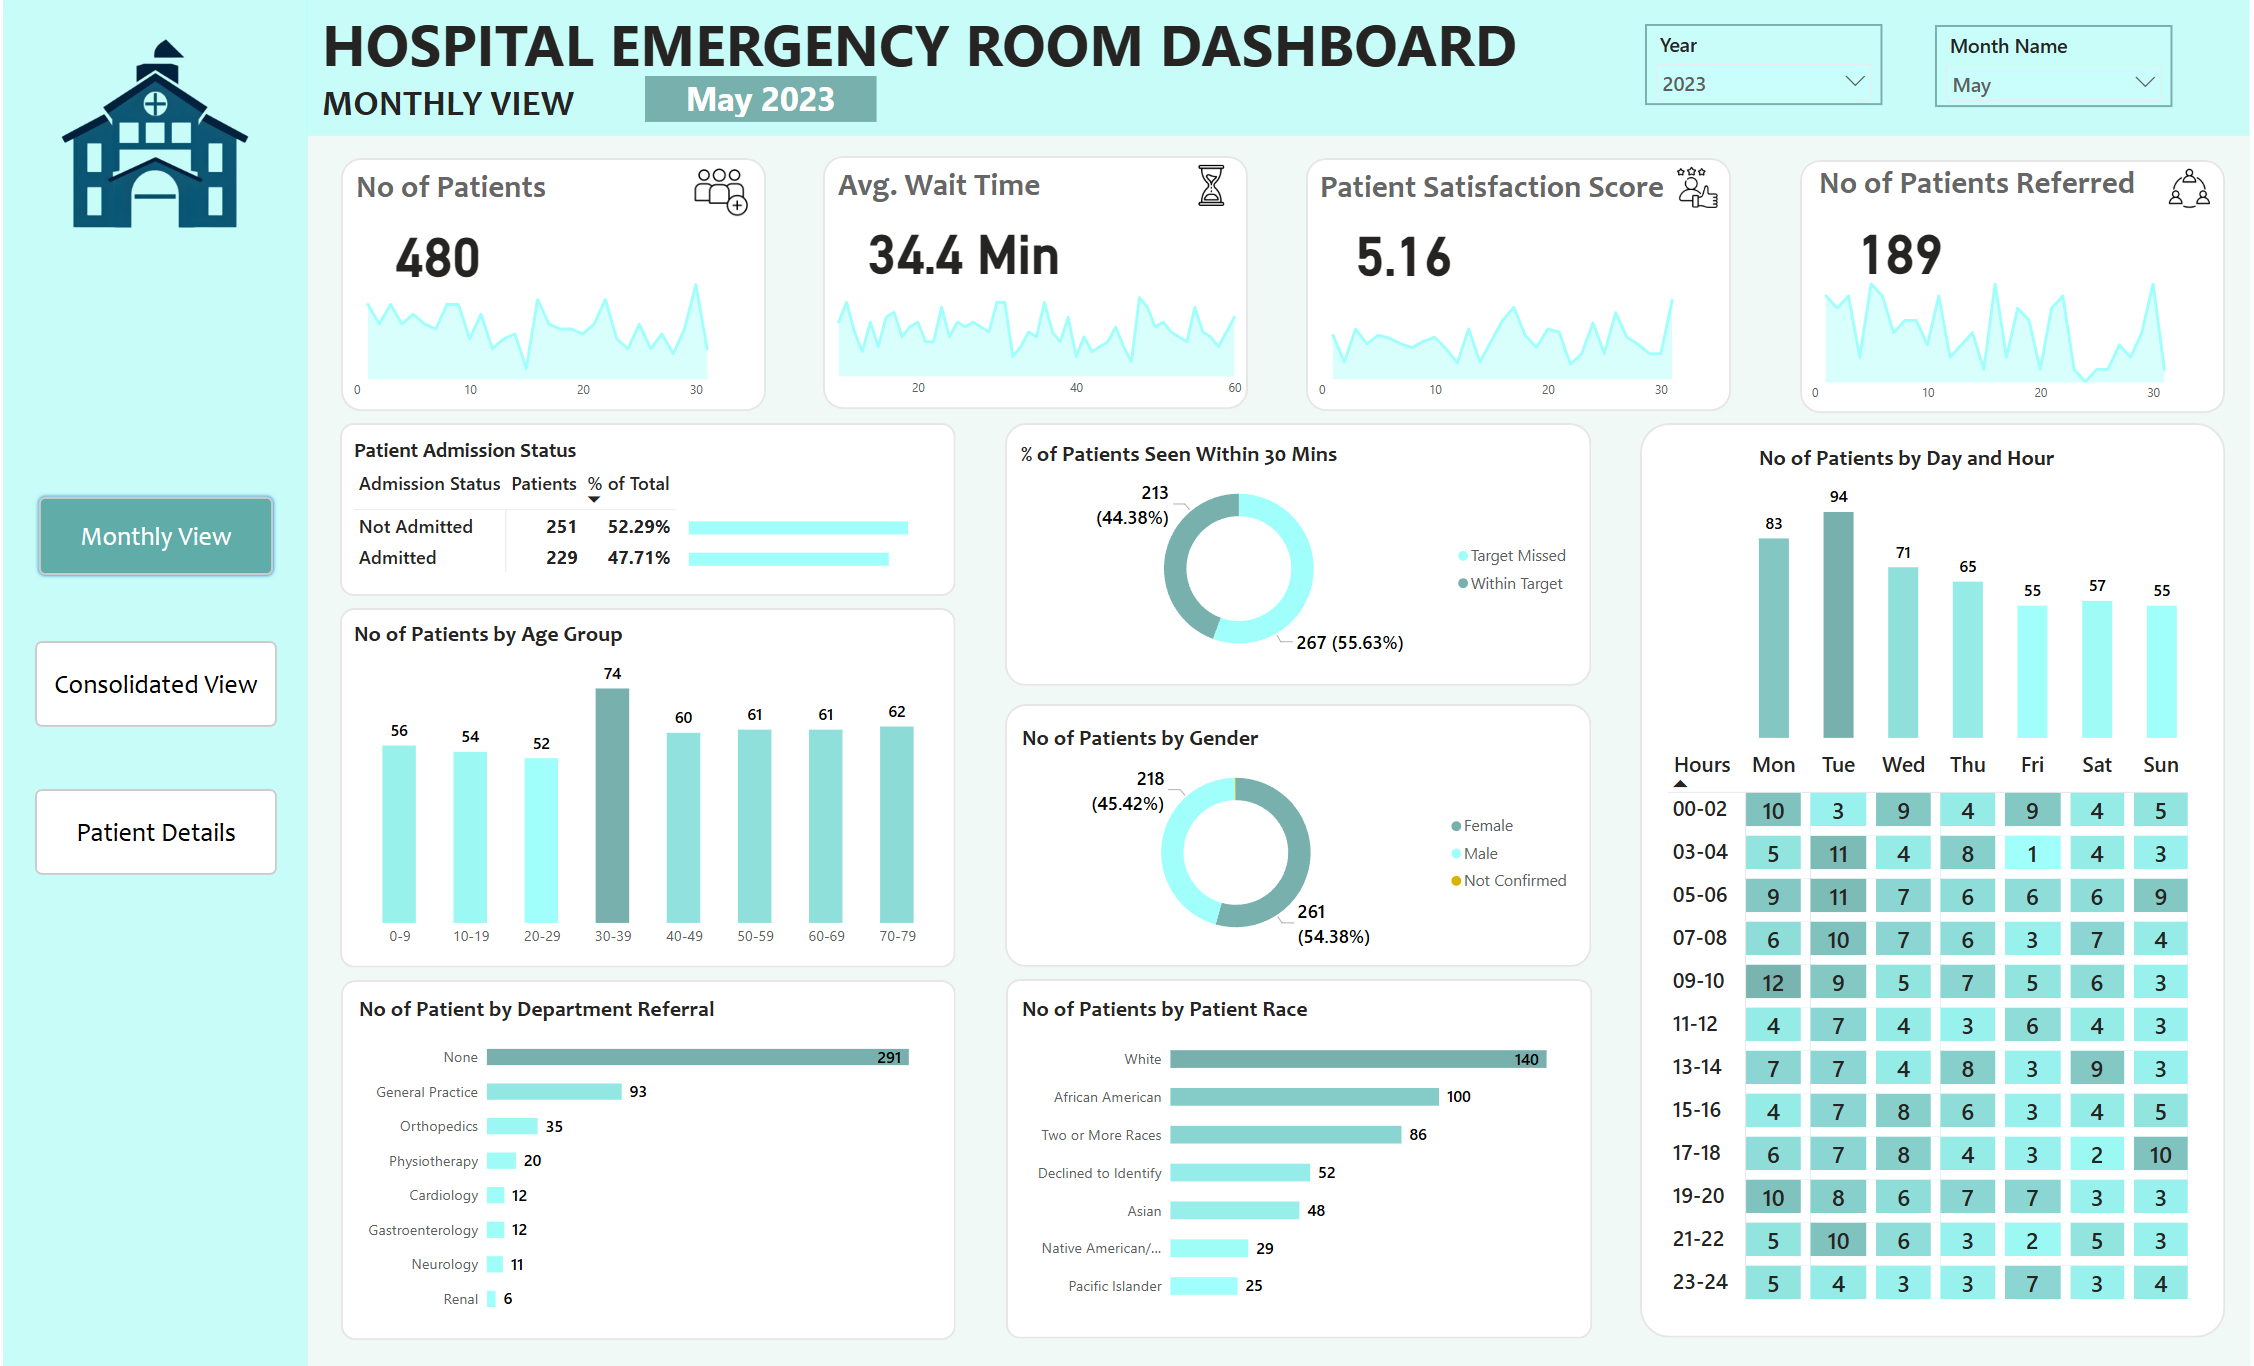

This screenshot's page, from the dashboard's own definition file:
{"tool":"powerbi","page":{"name":"Monthly View","canvas":[2300,1400],"ordinal":0},"visuals":[{"type":"shape","box":[0,0,312.2,1399.4],"z":0},{"type":"shape","box":[839.7,160,435,259],"z":0,"group":"g2"},{"type":"shape","box":[346,162,435,259],"z":0,"group":"g1"},{"type":"shape","box":[1333.3,161.3,435,259],"z":1000},{"type":"card","fields":{"Values":["Avg(Hospital ER_Data.Patient Waittime)","select"]},"box":[853.6,214,260,80],"z":1000,"group":"g2"},{"type":"card","fields":{"Values":["Count(Hospital ER_Data.Patient Id)"]},"box":[356,217,178,80],"z":1000,"group":"g1"},{"type":"textbox","box":[849.7,165,322,56],"z":2000,"group":"g2"},{"type":"textbox","box":[356,167,322,56],"z":2000,"group":"g1"},{"type":"card","fields":{"Values":["Avg(Hospital ER_Data.Patient Satisfaction Score)"]},"box":[1343.3,216.3,178,80],"z":2000},{"type":"shape","box":[1839,164,435,259],"z":3000},{"type":"areaChart","fields":{"Y":["CountNonNull(Hospital ER_Data.Patient Id)"],"Category":["Hospital ER_Data.Patient Waittime"]},"box":[840.7,271,435,145],"z":3000,"group":"g2"},{"type":"areaChart","fields":{"Category":["Date Table.Date.Variation.Date Hierarchy.Day"],"Y":["Count(Hospital ER_Data.Patient Id)"]},"box":[347,273,435,145],"z":3000,"group":"g1"},{"type":"shape","box":[311.5,0,1987.7,139.5],"z":4000},{"type":"textbox","box":[1342.2,167.3,385.6,55.8],"z":5000},{"type":"areaChart","fields":{"Category":["Date Table.Date.Variation.Date Hierarchy.Day"],"Y":["Avg(Hospital ER_Data.Patient Satisfaction Score)"]},"box":[1334.3,272.3,435,145],"z":6000},{"type":"card","fields":{"Values":["Hospital ER_Data.No of Patients Referred"]},"box":[1854,214,174,80],"z":7000},{"type":"textbox","box":[321,0,1292,109],"z":8000},{"type":"textbox","box":[1853,163,352,56],"z":9000},{"type":"textbox","box":[321,77,322,76],"z":10000},{"type":"areaChart","fields":{"Category":["Date Table.Date.Variation.Date Hierarchy.Day"],"Y":["Hospital ER_Data.No of Patients Referred"]},"box":[1839.3,276.4,434.1,144.3],"z":11000},{"type":"slicer","fields":{"Values":["Date Table.Year"]},"box":[1680,25,243,83],"z":12000},{"type":"slicer","fields":{"Values":["Date Table.Month Name"]},"box":[1977,25.6,243,83.7],"z":13000},{"type":"card","fields":{"Values":["Min(Date Table.Month & Year)"]},"box":[657,78,237,47],"z":14000},{"type":"group","id":"g1","title":"Group 1","box":[346,162,436,259],"z":15000},{"type":"group","id":"g2","title":"Group 1","box":[839.7,160,436,259],"z":16000},{"type":"shape","box":[345,433.2,630,177],"z":17000},{"type":"shape","box":[345,622.5,630,368],"z":18000},{"type":"shape","box":[1025.8,720.2,600.2,269.2],"z":18000,"group":"g3"},{"type":"shape","box":[345.6,1002.7,629.3,368.6],"z":19000},{"type":"shape","box":[1025.2,432.9,600.2,269.2],"z":20000},{"type":"pivotTable","title":"Patient Admission Status","fields":{"Rows":["Hospital ER_Data.Admission Status"],"Values":["Count(Hospital ER_Data.Patient Id)","Divide(Count(Hospital ER_Data.Patient Id), ScopedEval(Count(Hospital ER_Data.Patient Id), []))"]},"box":[354.5,447.3,435,164],"z":21000},{"type":"clusteredBarChart","fields":{"Category":["Hospital ER_Data.Admission Status"],"Y":["Count(Hospital ER_Data.Patient Id)"]},"box":[697,505,278,98.2],"z":22000},{"type":"clusteredColumnChart","title":"No of Patients by Age Group","fields":{"Category":["Hospital ER_Data.Patient Age Groups"],"Y":["Count(Hospital ER_Data.Patient Id)"]},"box":[354,635,614,344],"z":23000},{"type":"donutChart","title":"No of Patients by Gender","fields":{"Category":["Hospital ER_Data.Patient Gender"],"Y":["Count(Hospital ER_Data.Patient Id)"]},"box":[1038.2,740.8,577,235],"z":24000,"group":"g3"},{"type":"clusteredBarChart","title":"No of Patient by Department Referral","fields":{"Category":["Hospital ER_Data.Department Referral"],"Y":["Count(Hospital ER_Data.Patient Id)"]},"box":[358.9,1018.5,603.8,339.5],"z":24000},{"type":"donutChart","title":"% of Patients Seen Within 30 Mins","fields":{"Category":["Hospital ER_Data.Waittime Status"],"Y":["Count(Hospital ER_Data.Patient Id)"]},"box":[1036.7,449.8,577.1,235.2],"z":25000},{"type":"shape","box":[1027,1001.5,600,368.2],"z":25000,"group":"g4"},{"type":"shape","box":[1675.7,432.9,599,936],"z":26000},{"type":"clusteredBarChart","title":"No of Patients by Patient Race","fields":{"Y":["Count(Hospital ER_Data.Patient Id)"],"Category":["Hospital ER_Data.Patient Race"]},"box":[1038.8,1018,577.1,328.6],"z":26000,"group":"g4"},{"type":"group","id":"g3","title":"Group 2","box":[1025.8,720.2,600.2,269.2],"z":27000},{"type":"group","id":"g4","title":"Group 3","box":[1027,1001.5,599,367.4],"z":28000},{"type":"pivotTable","fields":{"Rows":["Hospital ER_Data.Waittime Interval"],"Columns":["Date Table.Day Name"],"Values":["Count(Hospital ER_Data.Patient Id)"]},"box":[1698.7,761.4,556.5,585.6],"z":29000},{"type":"columnChart","title":"No of Patients by Day and Hour","fields":{"Category":["Date Table.Day Name"],"Y":["Count(Hospital ER_Data.Patient Id)"]},"box":[1792,454.7,440.1,306.8],"z":30000},{"type":"image","box":[47.3,25.5,215.8,223.1],"z":31000},{"type":"image","box":[1208.8,163.7,57,52.1],"z":32000},{"type":"image","box":[698.4,162.5,74,67.9],"z":33000},{"type":"image","box":[1706,166.1,55.8,52.1],"z":34000},{"type":"image","box":[2211.6,164.9,52.1,55.8],"z":35000},{"type":"actionButton","box":[32.3,504.1,247.6,87.9],"z":36000},{"type":"actionButton","box":[32.3,655.7,247.6,87.9],"z":37000},{"type":"actionButton","box":[32.3,807.3,247.6,87.9],"z":37001}]}

Visuals, with their boxes in screenshot pixels (x1, y1, x2, y2), scaled from the page's 2300x1400 canvas onto the 2254x1366 screenshot:
shape: 0/0/306/1365
shape: 823/156/1249/409
shape: 339/158/765/411
shape: 1307/157/1733/410
card - Avg(Hospital ER_Data.Patient Waittime) x select: 837/209/1091/287
card - Count(Hospital ER_Data.Patient Id): 349/212/523/290
textbox: 833/161/1148/216
textbox: 349/163/664/218
card - Avg(Hospital ER_Data.Patient Satisfaction Score): 1316/211/1491/289
shape: 1802/160/2229/413
areaChart - CountNonNull(Hospital ER_Data.Patient Id) x Hospital ER_Data.Patient Waittime: 824/264/1250/406
areaChart - Date Table.Date.Variation.Date Hierarchy.Day x Count(Hospital ER_Data.Patient Id): 340/266/766/408
shape: 305/0/2253/136
textbox: 1315/163/1693/218
areaChart - Date Table.Date.Variation.Date Hierarchy.Day x Avg(Hospital ER_Data.Patient Satisfaction Score): 1308/266/1734/407
card - Hospital ER_Data.No of Patients Referred: 1817/209/1987/287
textbox: 315/0/1581/106
textbox: 1816/159/2161/214
textbox: 315/75/630/149
areaChart - Date Table.Date.Variation.Date Hierarchy.Day x Hospital ER_Data.No of Patients Referred: 1803/270/2228/410
slicer - Date Table.Year: 1646/24/1885/105
slicer - Date Table.Month Name: 1937/25/2176/107
card - Min(Date Table.Month & Year): 644/76/876/122
"Group 1" group: 339/158/766/411
"Group 1" group: 823/156/1250/409
shape: 338/423/956/595
shape: 338/607/956/966
shape: 1005/703/1593/965
shape: 339/978/955/1338
shape: 1005/422/1593/685
"Patient Admission Status" pivotTable: 347/436/774/596
clusteredBarChart - Hospital ER_Data.Admission Status x Count(Hospital ER_Data.Patient Id): 683/493/956/589
"No of Patients by Age Group" clusteredColumnChart: 347/620/949/955
"No of Patients by Gender" donutChart: 1017/723/1583/952
"No of Patient by Department Referral" clusteredBarChart: 352/994/943/1325
"% of Patients Seen Within 30 Mins" donutChart: 1016/439/1582/668
shape: 1006/977/1594/1336
shape: 1642/422/2229/1336
"No of Patients by Patient Race" clusteredBarChart: 1018/993/1584/1314
"Group 2" group: 1005/703/1593/965
"Group 3" group: 1006/977/1593/1336
pivotTable - Hospital ER_Data.Waittime Interval x Date Table.Day Name: 1665/743/2210/1314
"No of Patients by Day and Hour" columnChart: 1756/444/2187/743
image: 46/25/258/243
image: 1185/160/1240/211
image: 684/159/757/225
image: 1672/162/1727/213
image: 2167/161/2218/215
actionButton: 32/492/274/578
actionButton: 32/640/274/726
actionButton: 32/788/274/873
